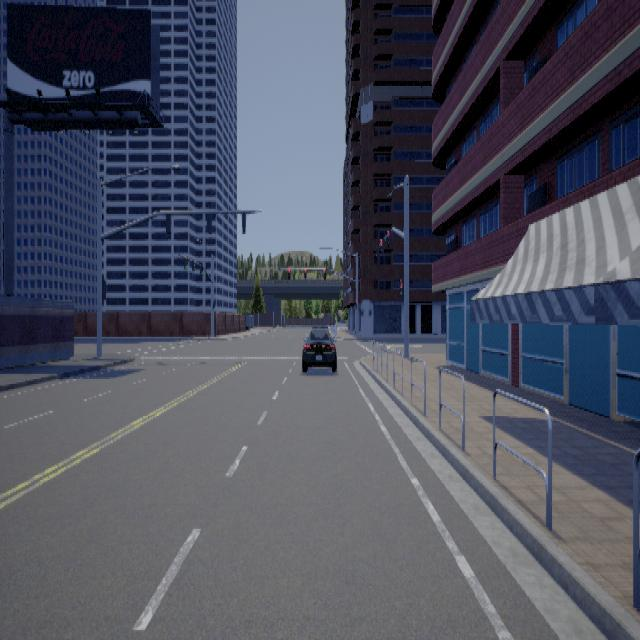red_light: (386, 229, 390, 246), (379, 238, 383, 252), (324, 268, 326, 278), (304, 269, 306, 279), (288, 269, 290, 279)
traffic_light: (375, 244, 378, 258)
vehicle: (301, 325, 336, 371)
